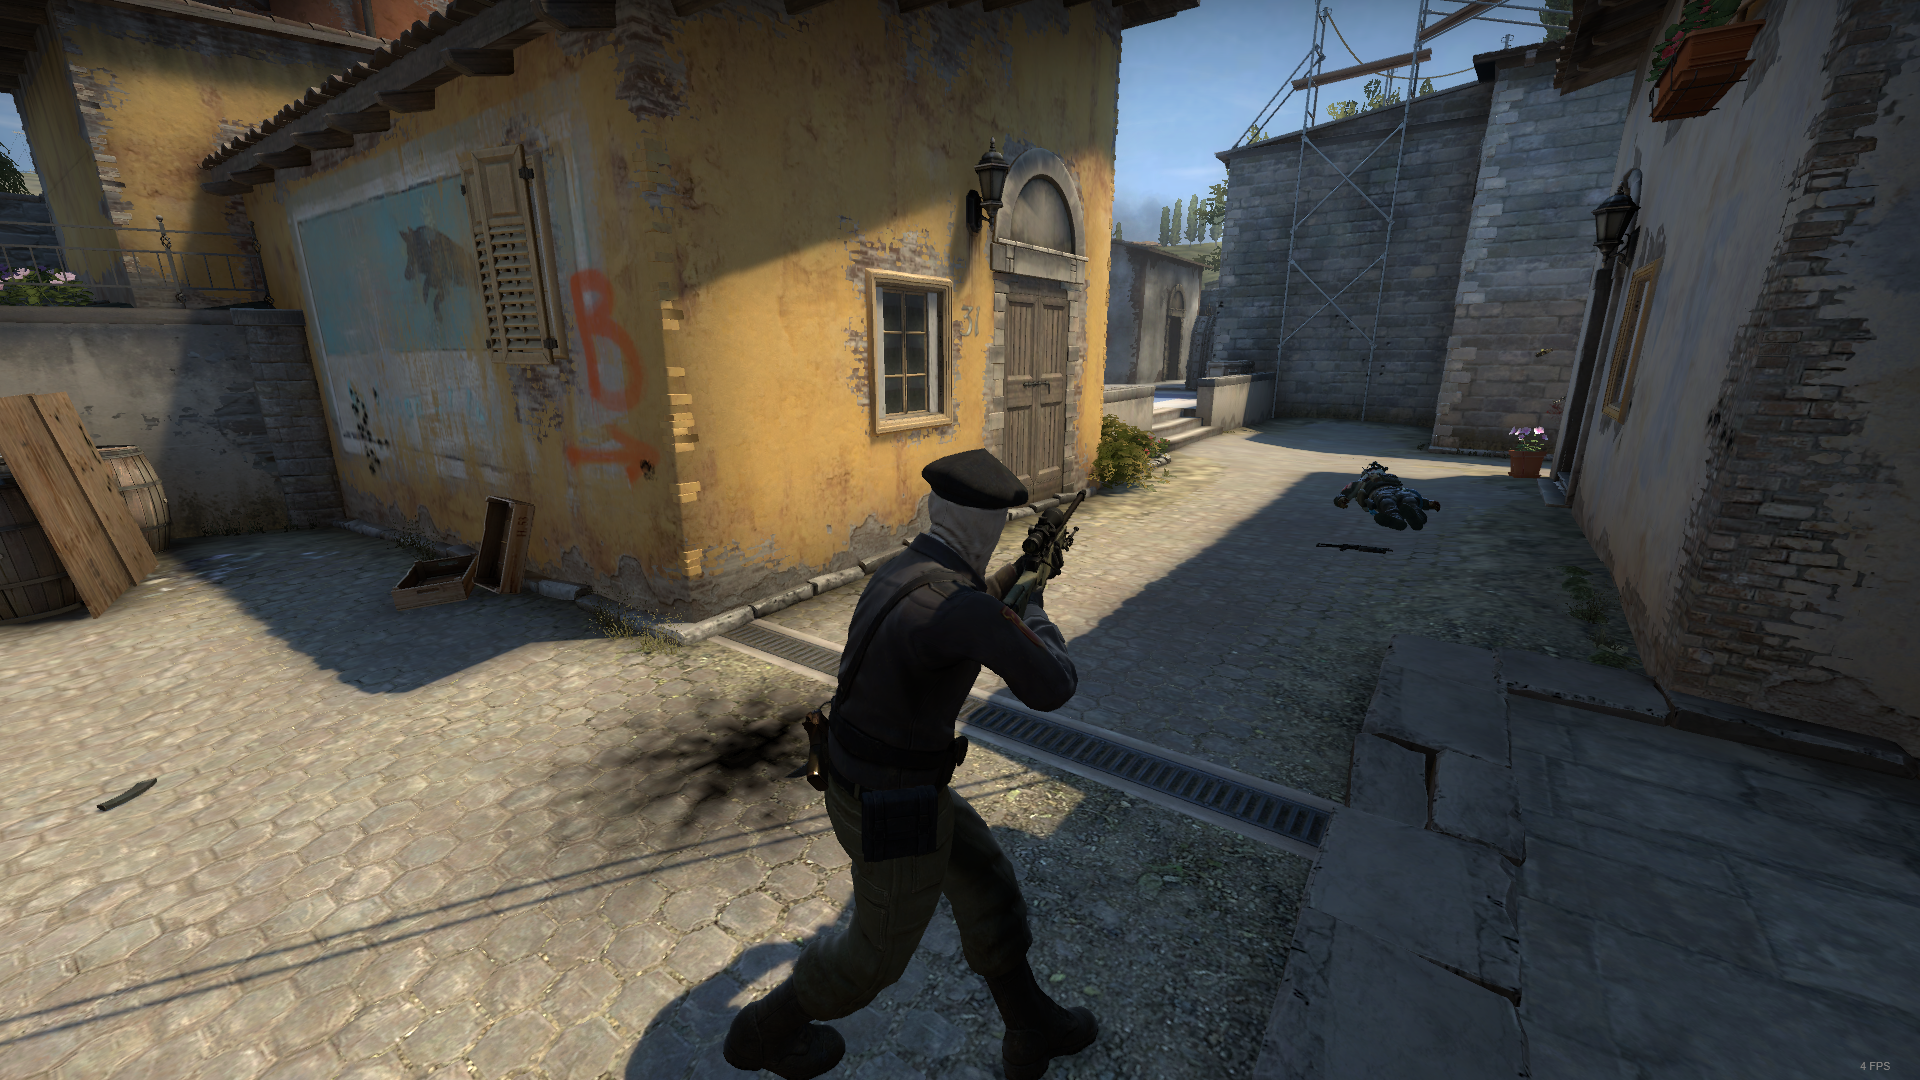t: (728, 446, 1098, 1080)
